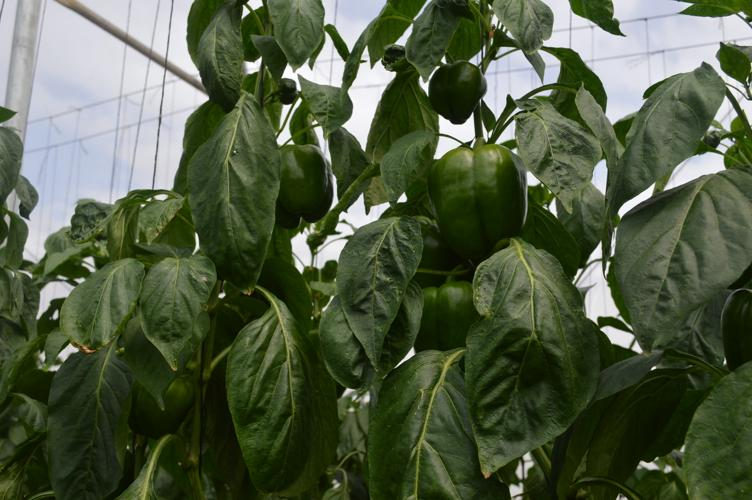BellPepper: (430, 143, 526, 260), (121, 374, 200, 441), (268, 144, 332, 224), (409, 282, 476, 357), (425, 63, 485, 124), (403, 221, 451, 287)
